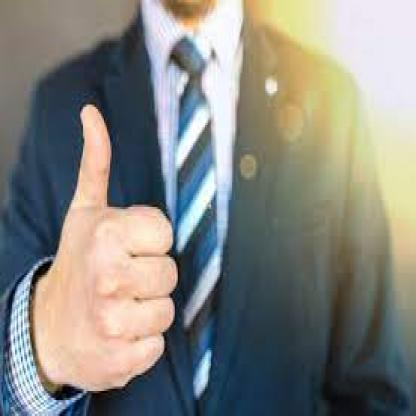thumb_up: (48, 102, 178, 394)
